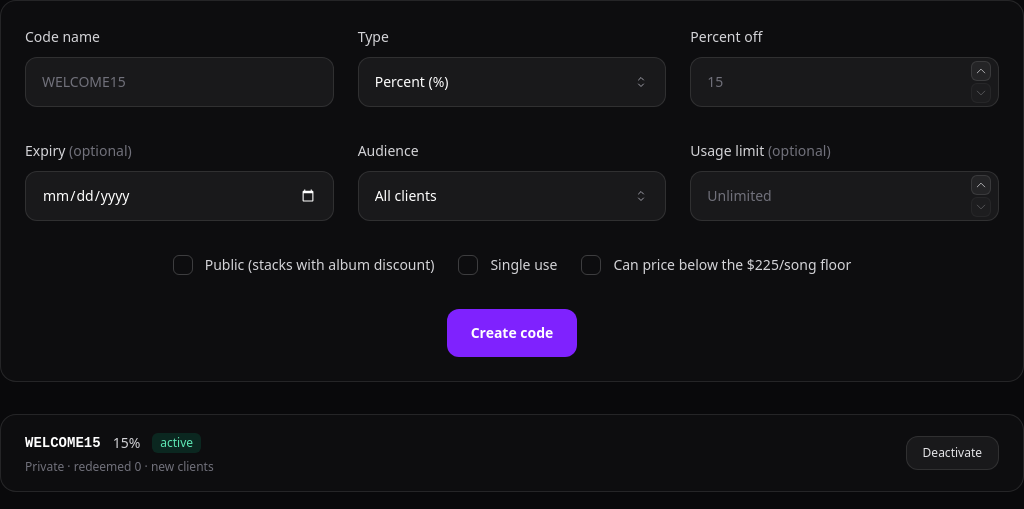
Test: DiscountCodesAdmin › deactivates a code from the list
Click the button "Deactivate": {"x": 952, "y": 453} [906, 436, 999, 470]
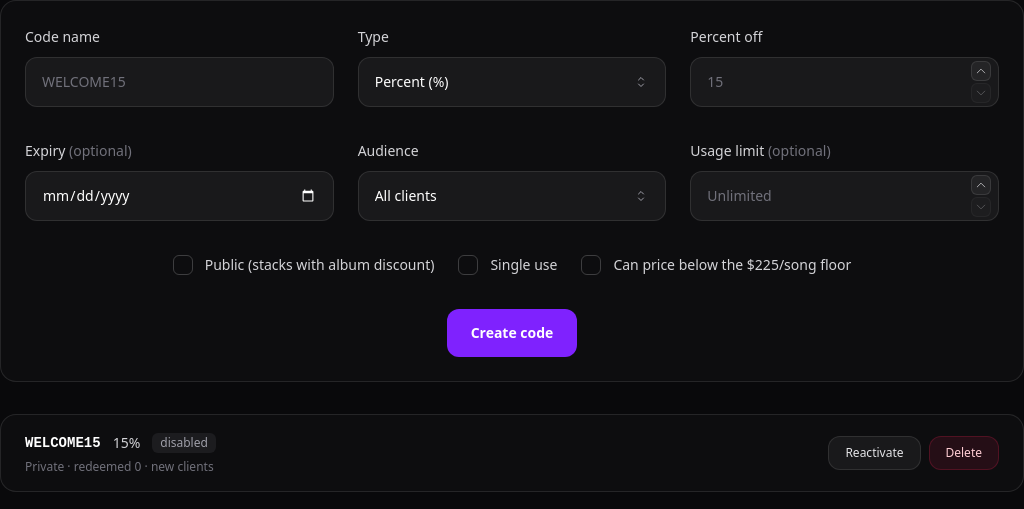
Expected: the text "disabled" is shown, [152, 433, 216, 453]
